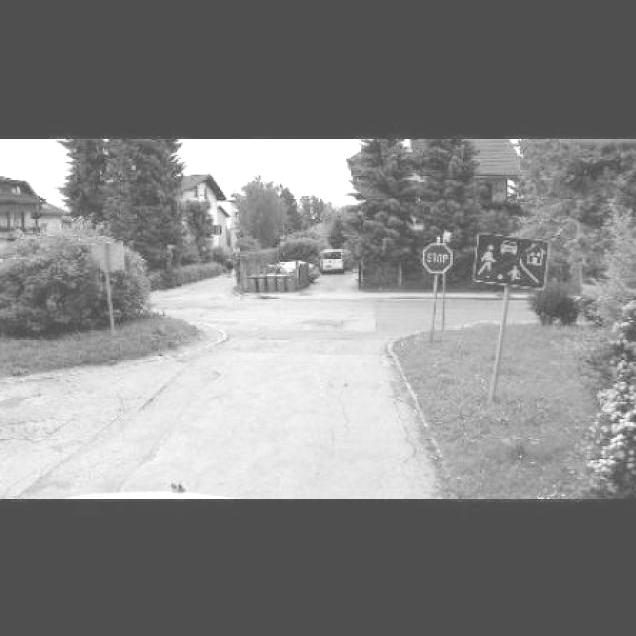stop_sign: (423, 242, 453, 273)
